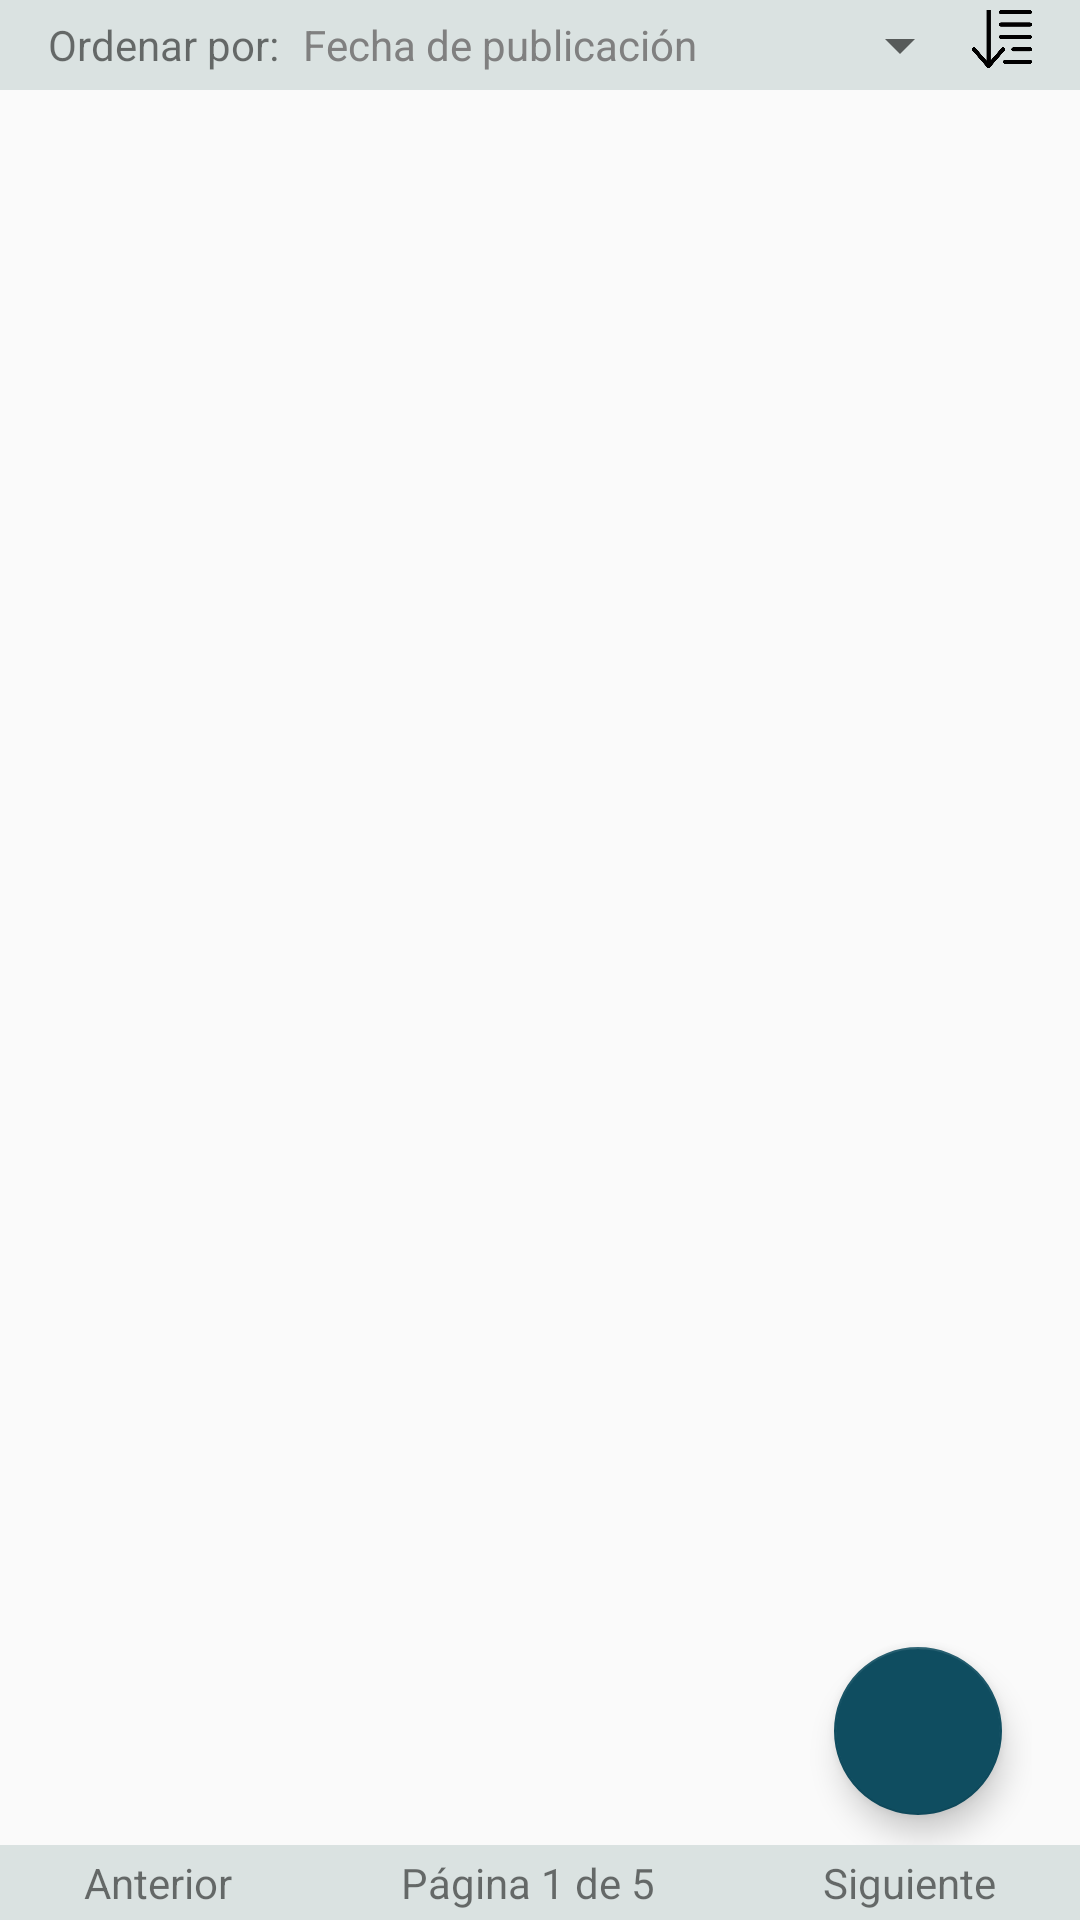

Locate icon controls on the screen. Image size 1080w x 1920h, boxes as (x1, y1, x2, y2).
Ordenar: (972, 10, 1032, 68)
